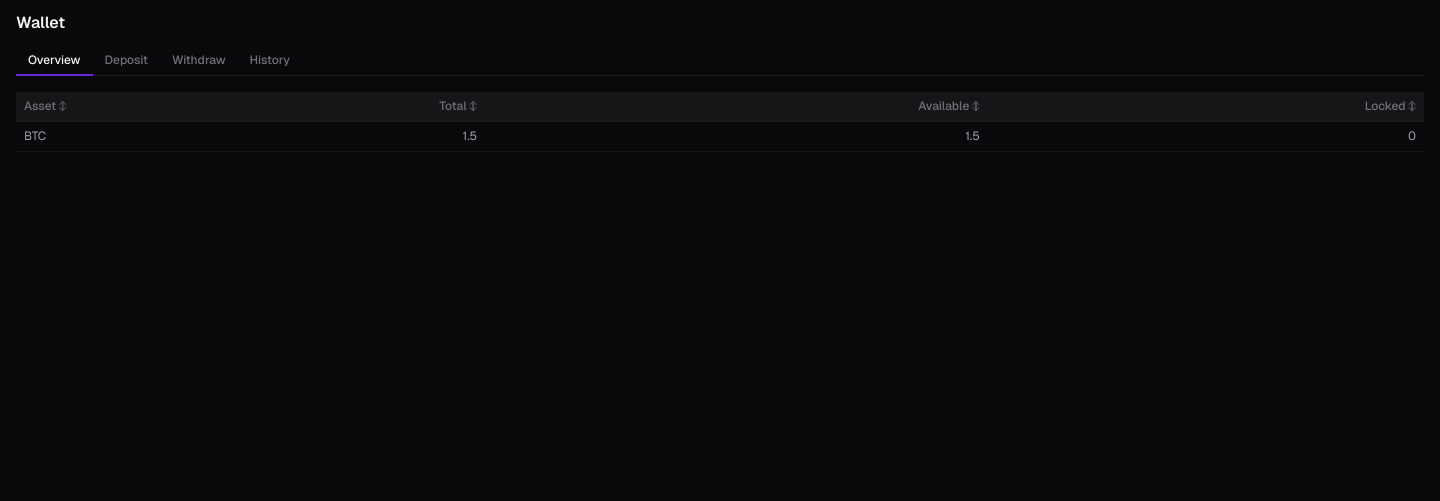
it: WalletPage › confirming withdrawal calls submitWithdrawal with correct params
Later steps or results of the test are not shown.
Step 1. Click the tab "Withdraw" → (199, 61), box [160, 46, 238, 76]
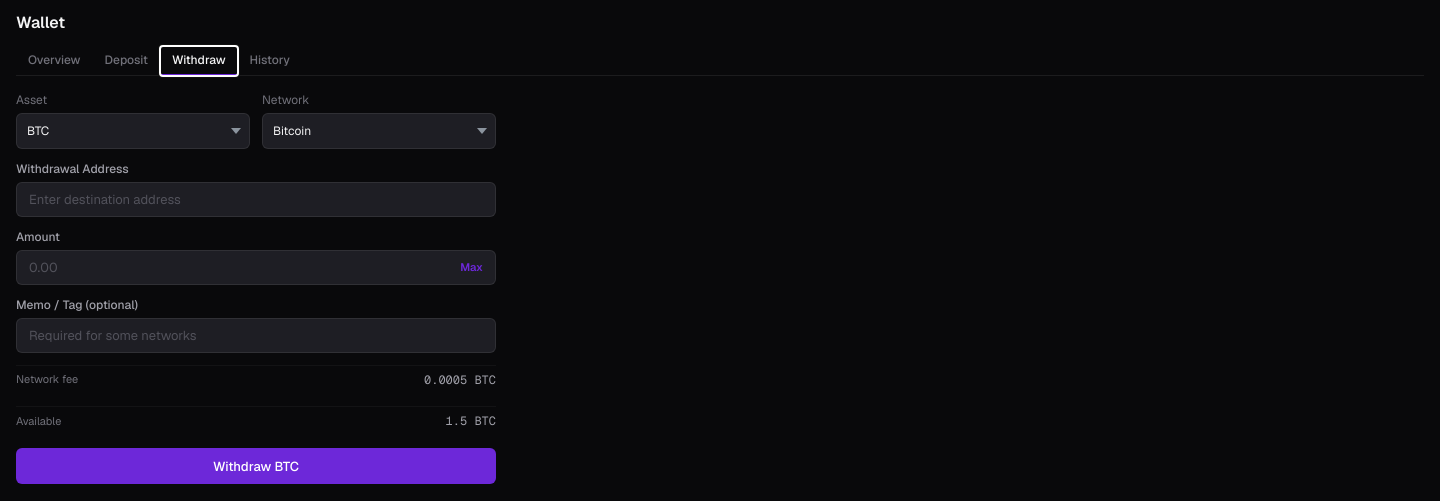
Expected: the text "Withdrawal Address" is shown, [16, 161, 129, 177]
